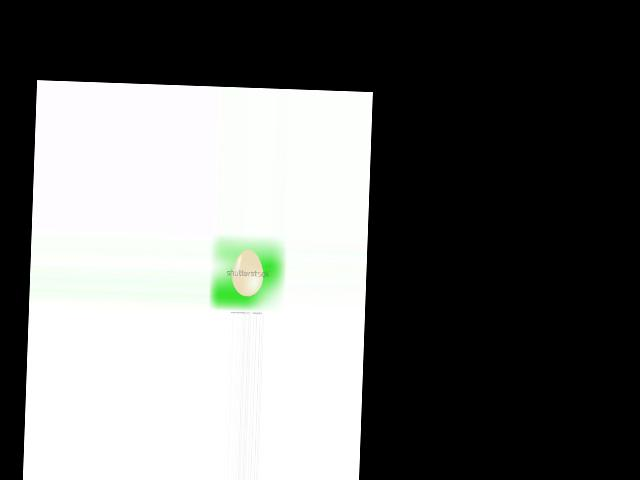egg: (231, 249, 264, 296)
